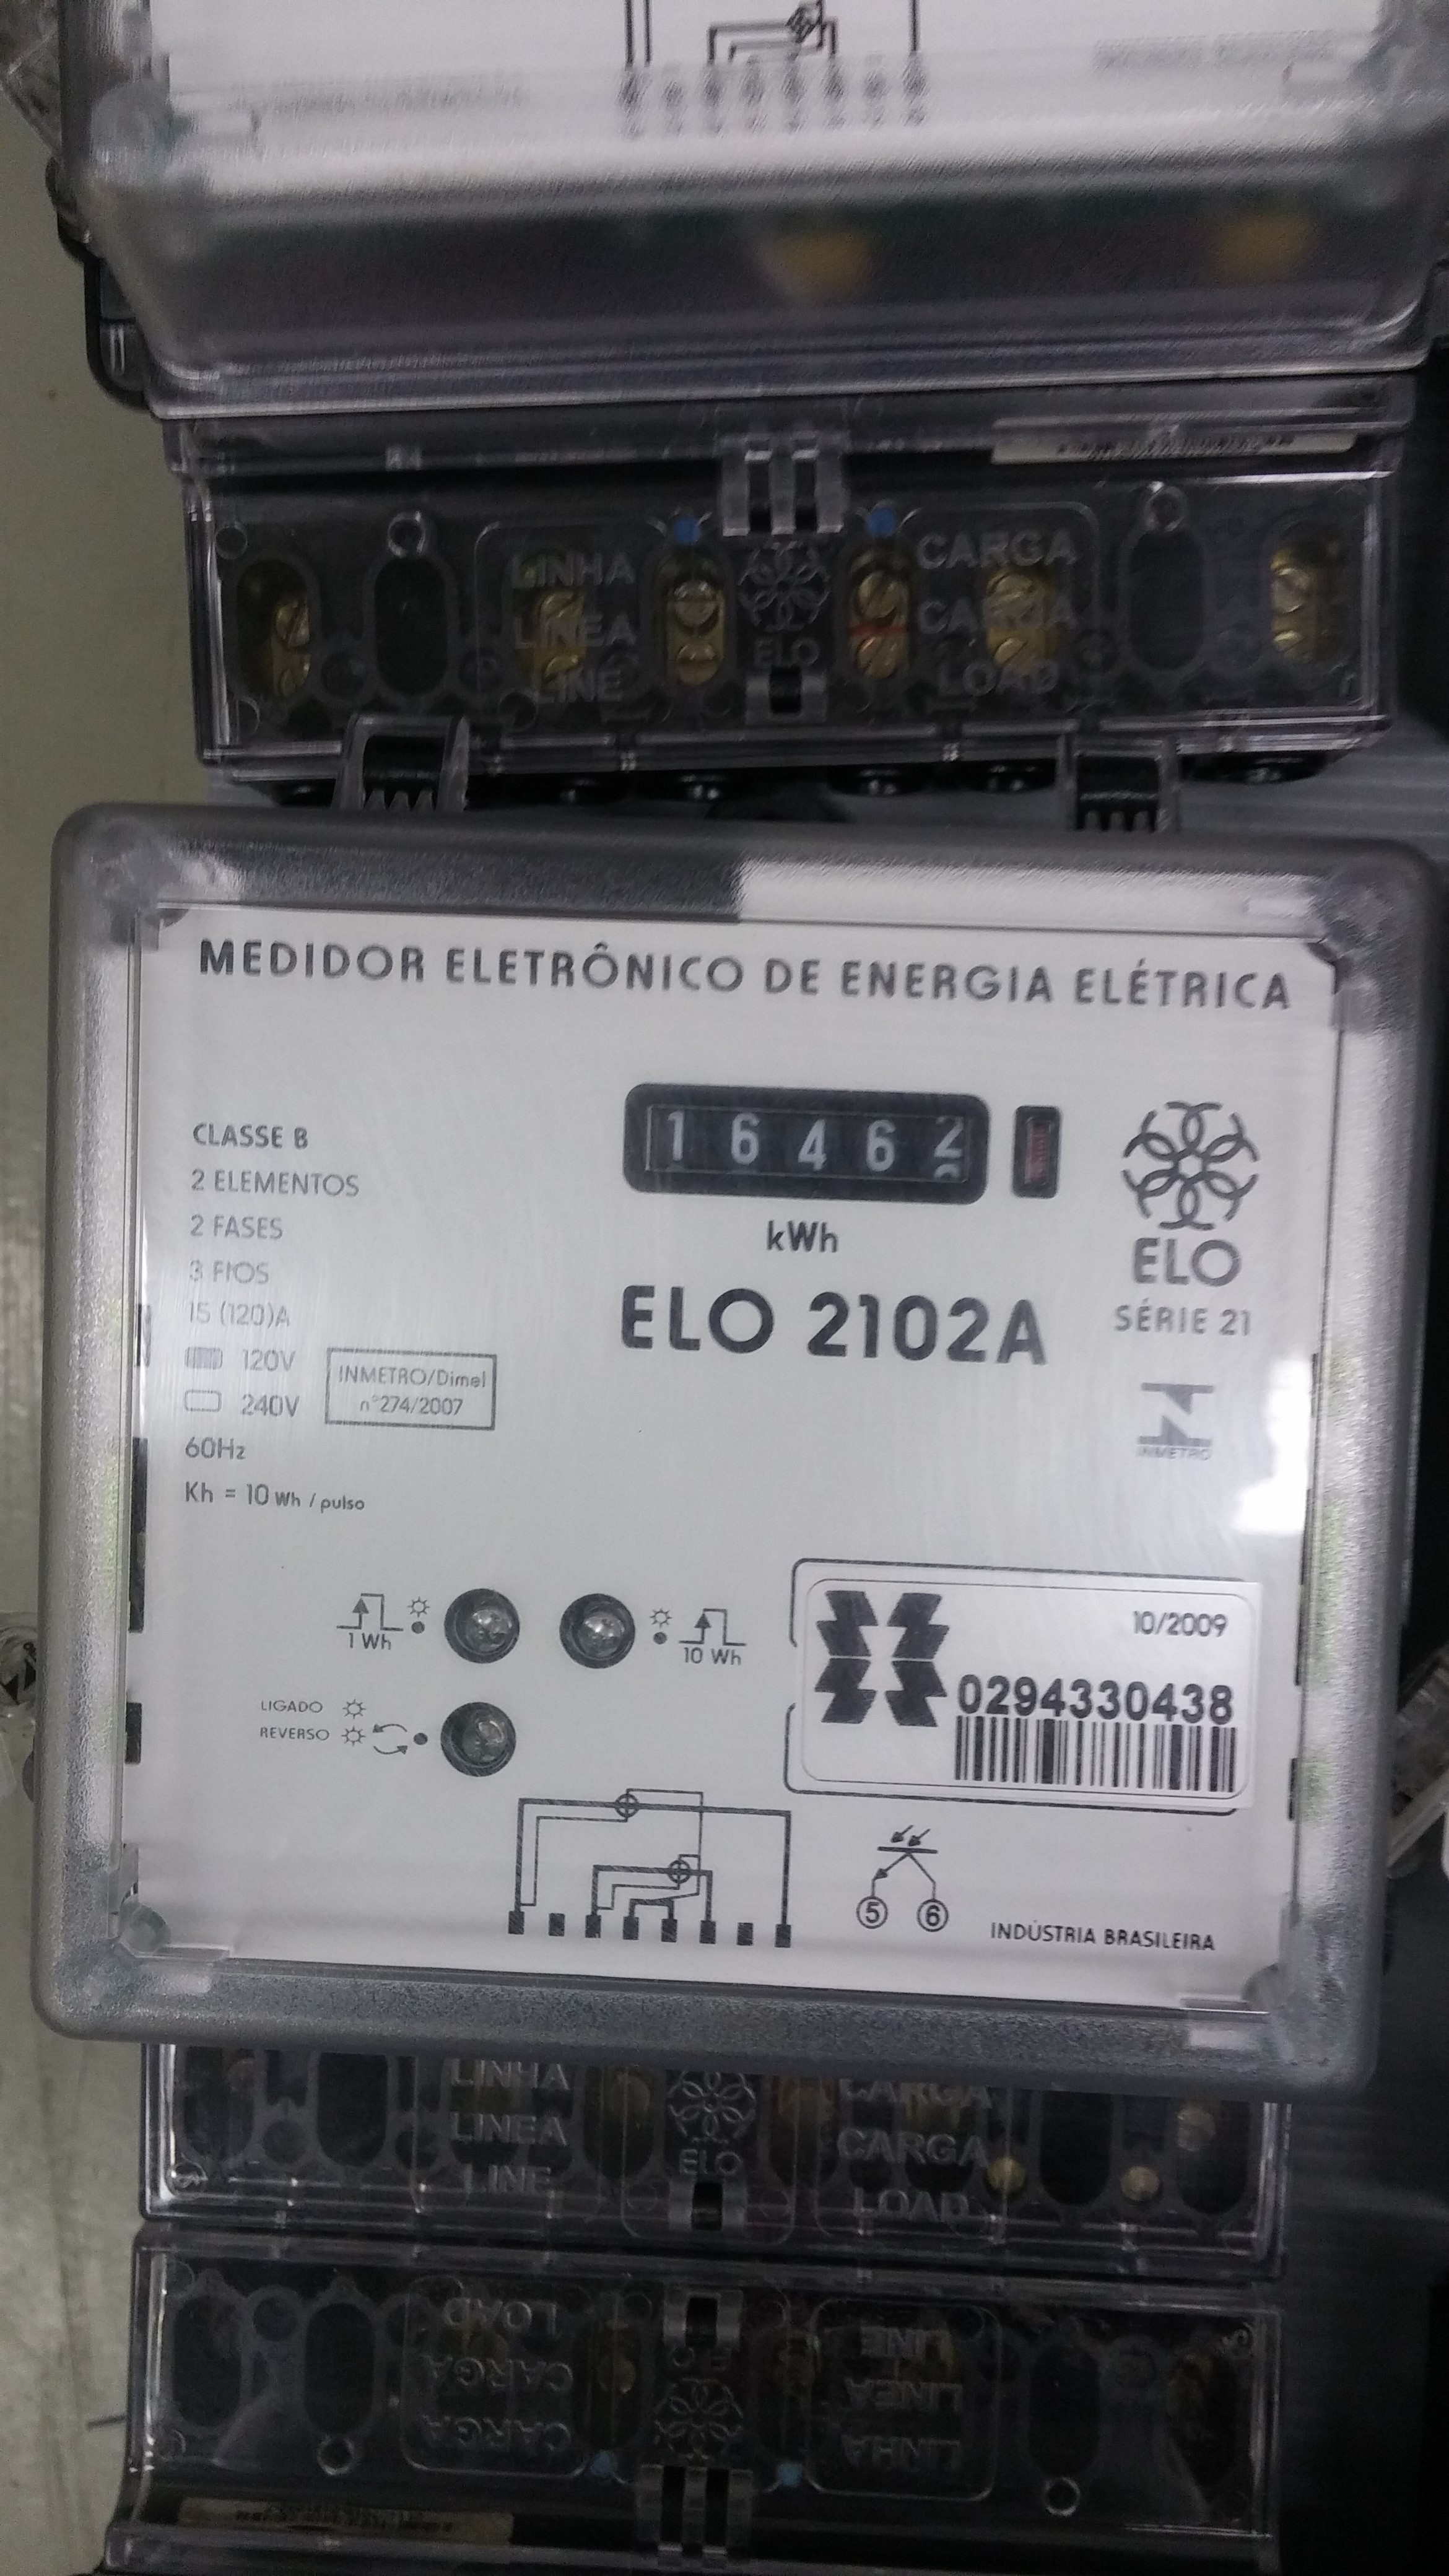counter2: (602, 1072, 996, 1207)
